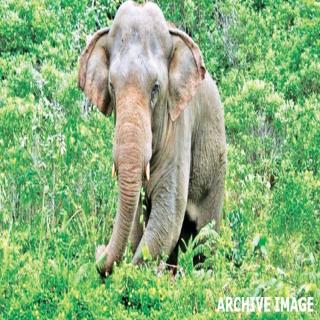Elephant: (78, 0, 228, 286)
